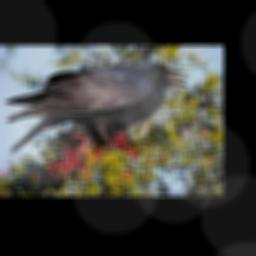Crow: (5, 62, 191, 154)
